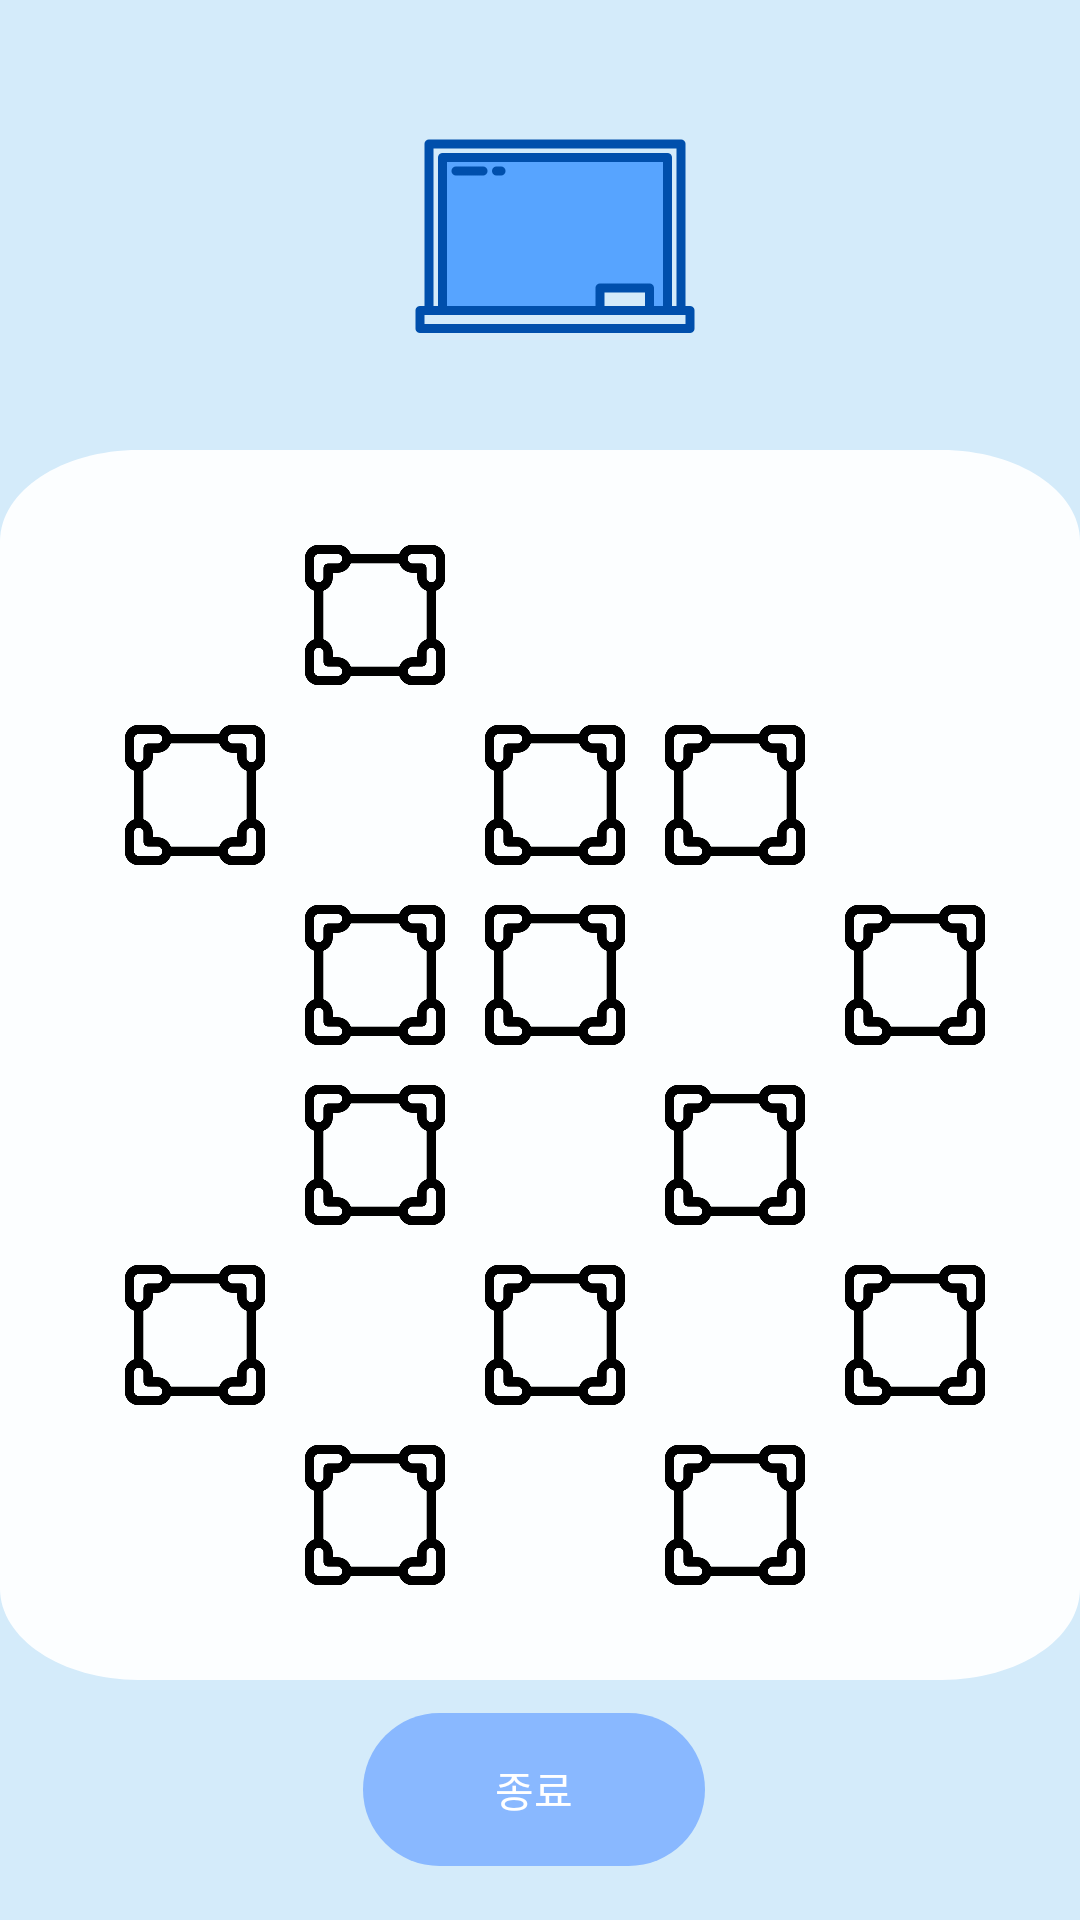

Where to tap for icons on this 1080x1920 app screen, as (x=x, y=y):
chalkboard: (x=555, y=236)
